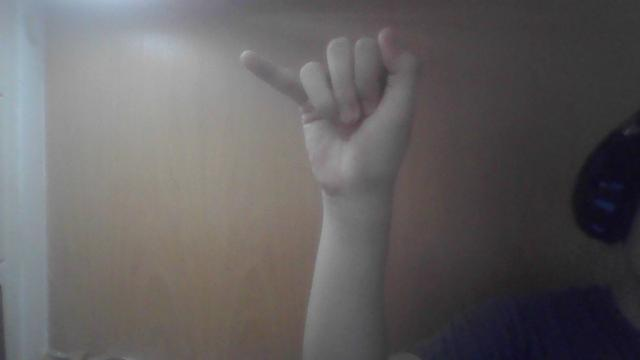Right: (242, 26, 422, 198)
